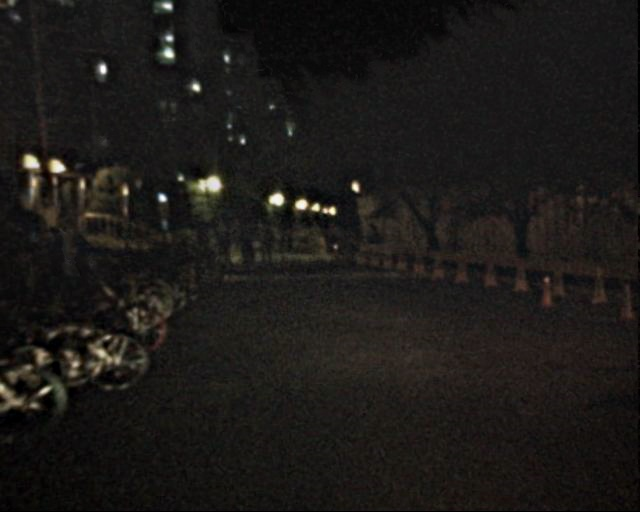person: (54, 227, 76, 281), (238, 224, 259, 275), (256, 223, 274, 267), (81, 229, 99, 272), (215, 217, 231, 257), (363, 226, 379, 266), (196, 220, 211, 257), (277, 222, 293, 252), (229, 222, 242, 254)
